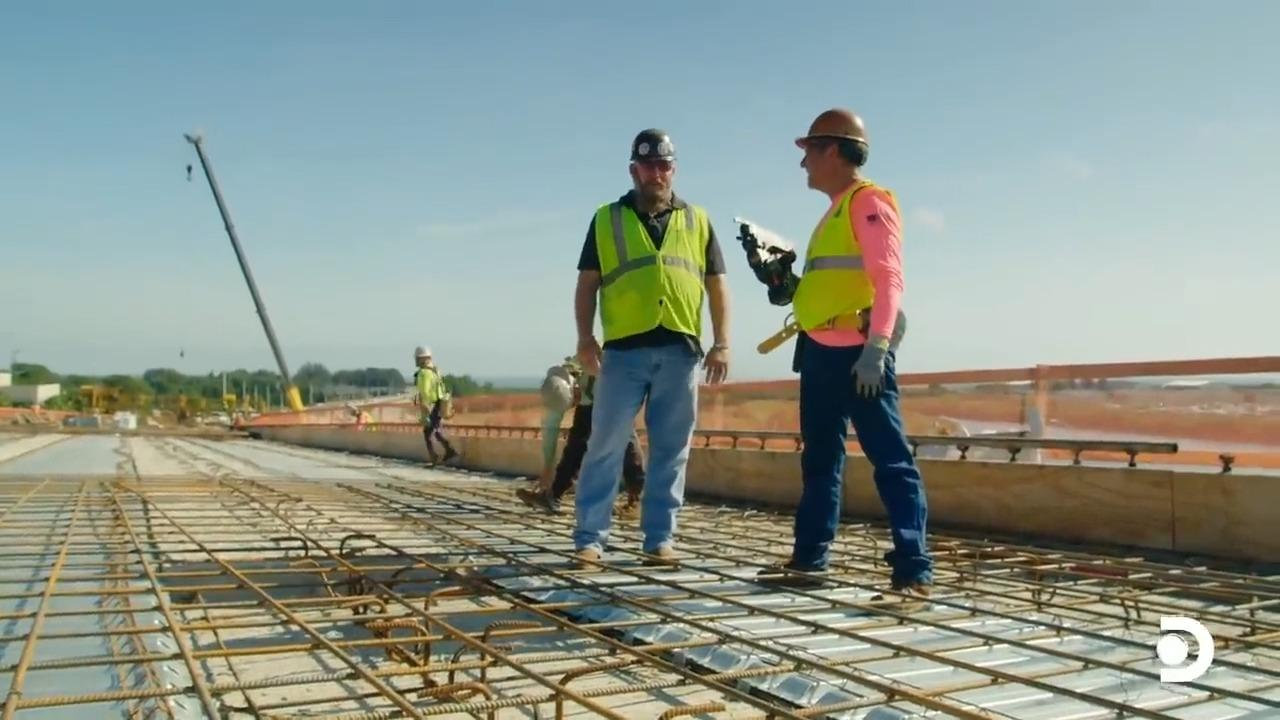Gloves: (850, 345, 896, 397)
Helmet: (794, 108, 869, 164), (541, 363, 582, 411), (629, 128, 676, 163), (414, 345, 432, 365)
Person: (740, 108, 934, 599), (572, 127, 730, 568), (516, 352, 646, 517), (413, 346, 458, 468)
Safety Boot: (866, 582, 934, 611), (758, 567, 831, 592), (644, 541, 689, 571), (565, 545, 601, 573), (518, 487, 561, 508), (611, 496, 638, 521)
Safety Vest: (595, 212, 704, 333), (801, 216, 889, 333), (418, 372, 444, 405)
bare-arms: (702, 344, 734, 394), (573, 341, 604, 379)
